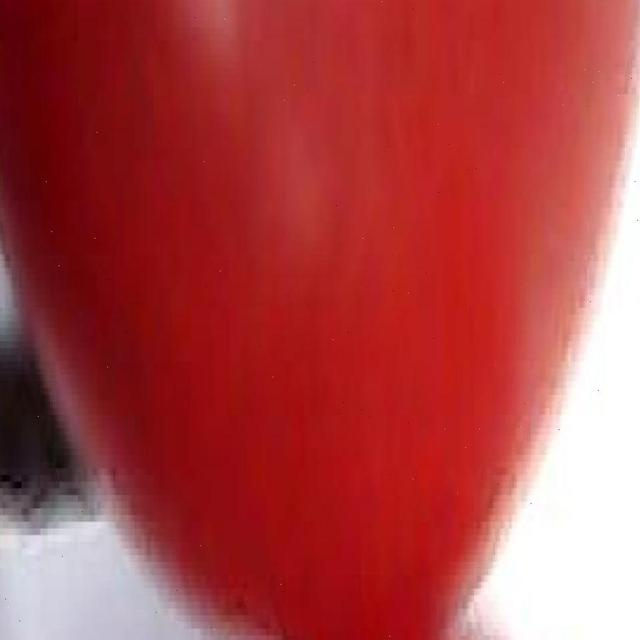Healthy Fruit: (3, 0, 427, 425)
